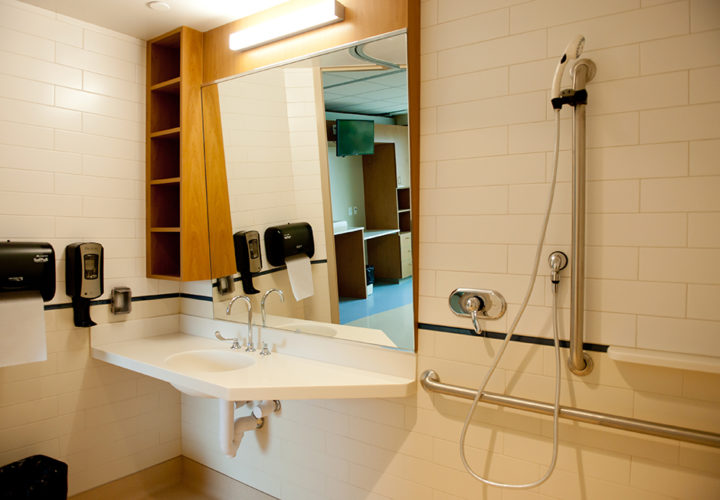TV: (336, 118, 375, 158)
cabinet: (135, 39, 204, 279)
countertop: (101, 336, 401, 386), (360, 230, 400, 239), (332, 225, 357, 233)
dispenser: (1, 238, 56, 355), (264, 221, 318, 299), (64, 244, 105, 329), (232, 230, 264, 296)
faucet: (213, 290, 255, 351), (256, 285, 296, 336)
handle: (458, 290, 495, 343)
restroom_assist_bar: (421, 369, 719, 451), (562, 58, 599, 375)
sink: (160, 341, 255, 378)
toilet_handle: (205, 324, 236, 347)
waste_bin: (1, 455, 68, 500)
